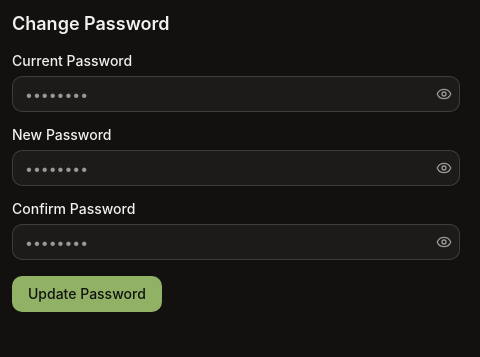
Test: ChangePassword › validates that passwords must match
The width and height of the screenshot is (480, 357).
Type "oldPassword123" into the password field with test id "current-password-input" at {"x": 236, "y": 94}, box [12,76,460,112]
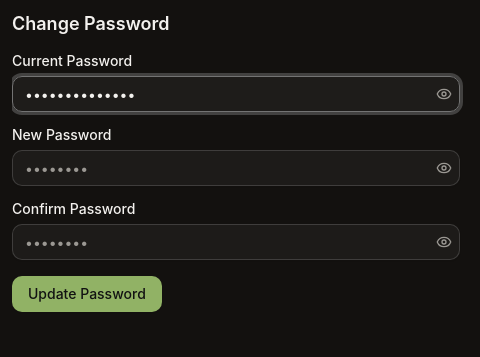
Type "newPassword456" into the password field with test id "new-password-input" at {"x": 236, "y": 168}, box [12,150,460,186]
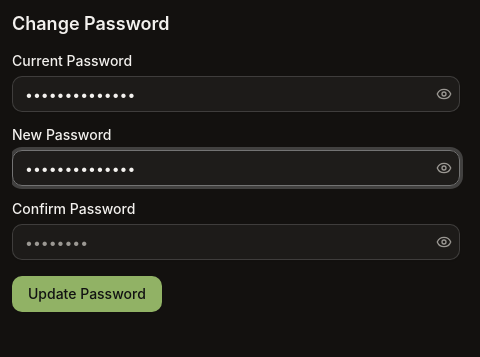
Type "differentPassword789" into the password field with test id "confirm-password-input" at {"x": 236, "y": 242}, box [12,224,460,260]
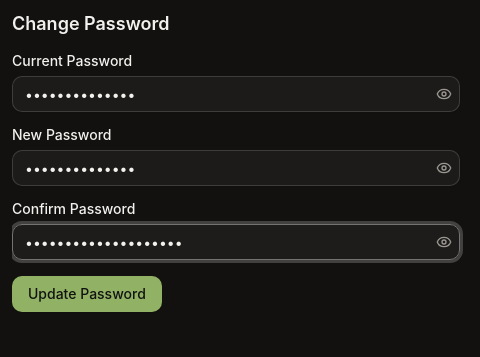
Click the button "Update Password" at {"x": 87, "y": 294}, box [12,276,162,312]
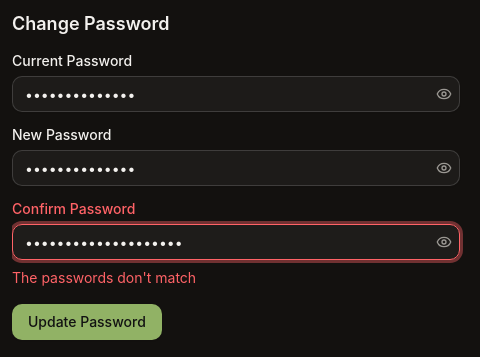
Expected: the text "The passwords don't match" is shown, [12,269,196,286]
